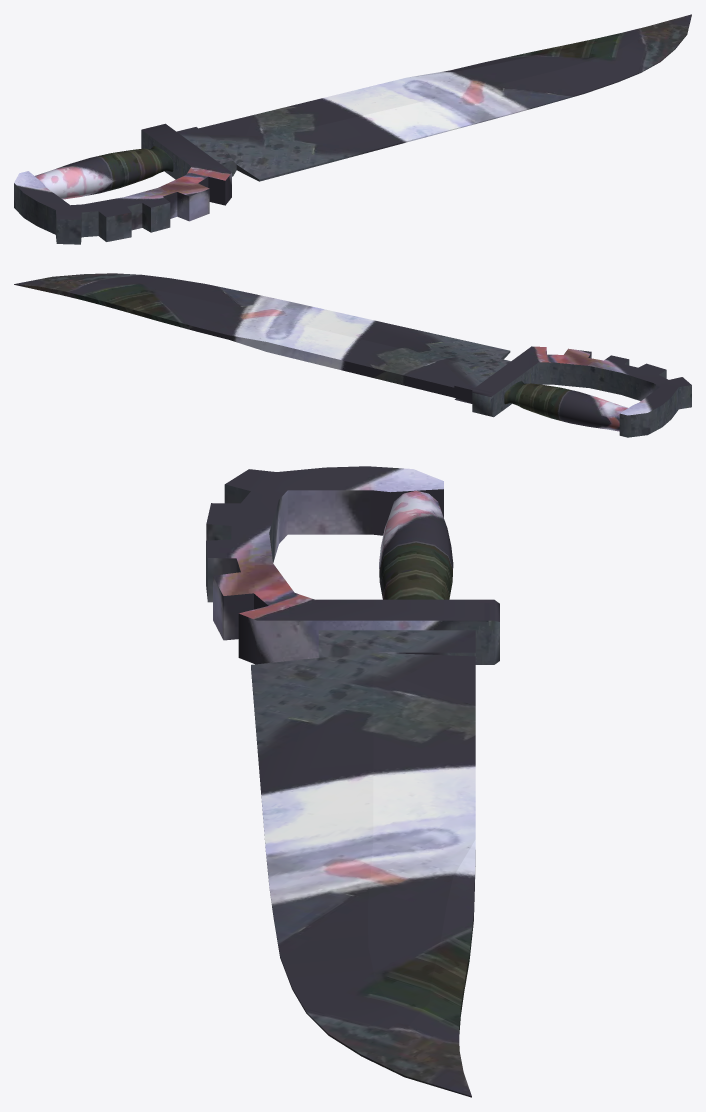
File: viewmodel_knife_bowie.glb
3 views of the same model, one above another, from view 1: azimuth 30°, elevation 25°; view 2: azimuth 150°, elevation 25°; view 3: azimuth 270°, elevation 25° (orthographic). The views are drawn at different scales.
Parts seen in each view (by area): view 1: viewmodel_knife_bowie; view 2: viewmodel_knife_bowie; view 3: viewmodel_knife_bowie.
Part boxes in pixels (x1,y1,x2,y2): viewmodel_knife_bowie: [14, 14, 691, 244]; viewmodel_knife_bowie: [14, 273, 691, 437]; viewmodel_knife_bowie: [206, 466, 499, 1097].
Bounding box in the file's own units: 0.6478 × 0.0284 × 0.1325.
Materials: 1 (1 with a texture image).
